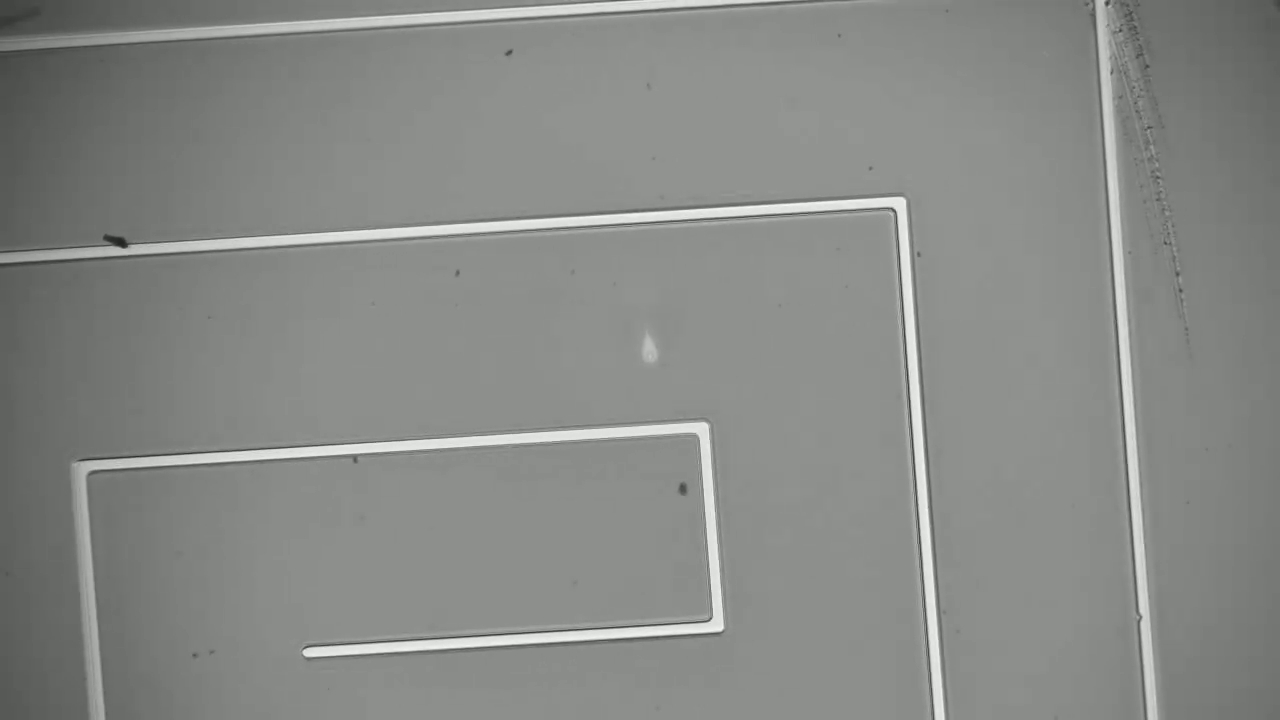scratch: (1088, 1, 1223, 347)
stains_enbedded: (99, 234, 138, 266)
